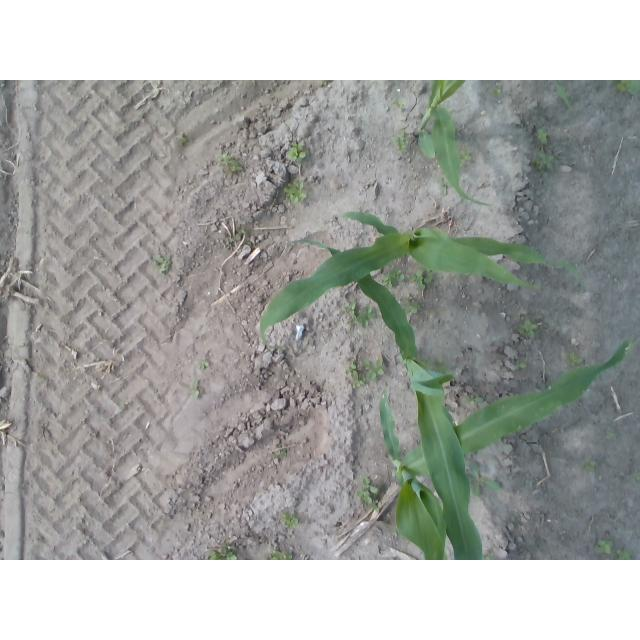Maize: (293, 240, 484, 561), (379, 341, 630, 560), (260, 212, 581, 349), (414, 81, 573, 208)
Weeds: (469, 461, 500, 491), (359, 478, 378, 507), (284, 181, 304, 203), (364, 359, 384, 379), (412, 270, 431, 291), (357, 308, 376, 327), (519, 319, 538, 338), (287, 143, 306, 161), (537, 152, 556, 170), (153, 255, 172, 273), (207, 549, 238, 560), (222, 154, 241, 170), (265, 550, 294, 560), (618, 80, 640, 93), (352, 369, 365, 387), (282, 511, 298, 525), (596, 540, 612, 554), (404, 302, 421, 314), (459, 147, 470, 165), (434, 361, 450, 372), (390, 270, 404, 282), (463, 395, 483, 403), (568, 354, 580, 367), (537, 129, 548, 143), (617, 549, 631, 560), (584, 458, 596, 470), (193, 381, 201, 398), (346, 361, 356, 374), (346, 304, 356, 317), (398, 138, 408, 150), (380, 275, 392, 285), (395, 99, 405, 109), (178, 134, 187, 145), (199, 360, 209, 369), (606, 430, 615, 438), (517, 361, 527, 368), (404, 293, 412, 301), (495, 86, 502, 94), (635, 471, 640, 480)
